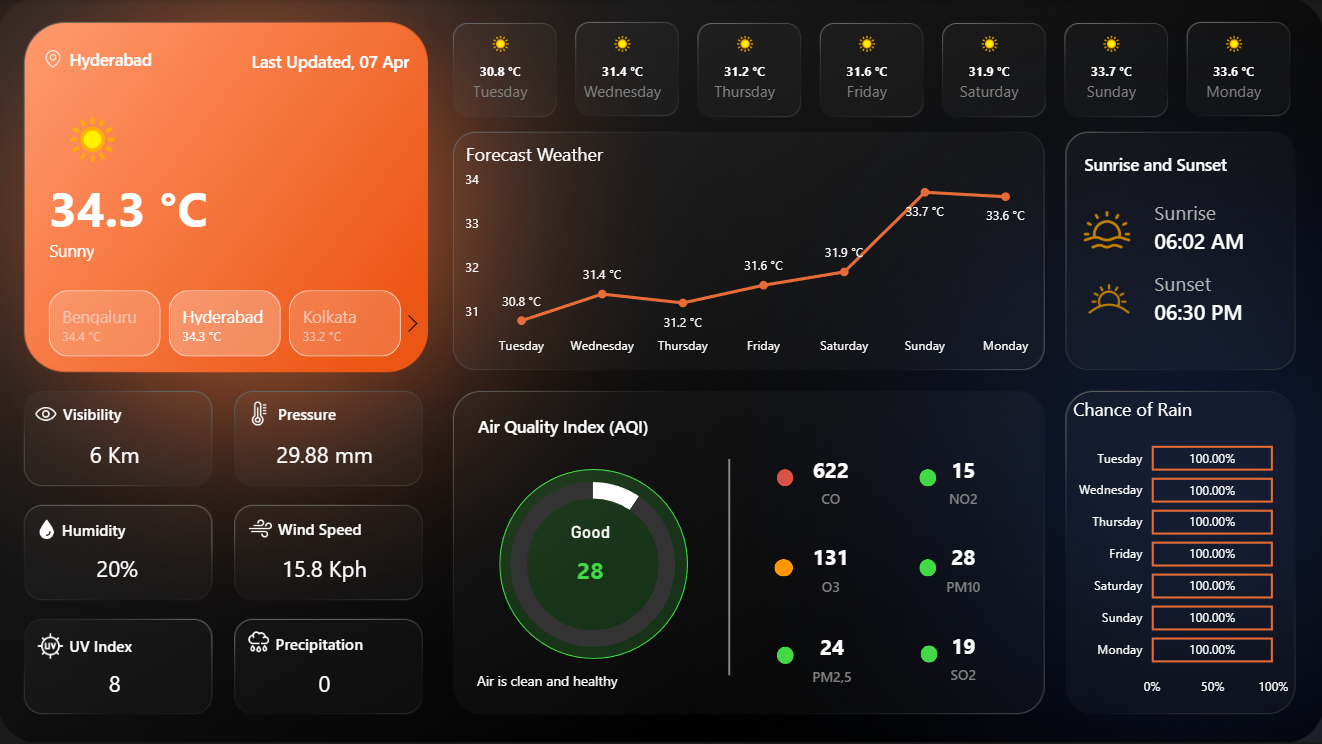

The page's visual inventory and layout, read from the dashboard file:
{"tool":"powerbi","page":{"name":"Page 1","canvas":[1280,720],"ordinal":0},"visuals":[{"type":"shape","box":[483.8,453.6,182.2,183.4],"z":0},{"type":"advancedSlicerVisual","fields":{"Values":["City.location.name"]},"box":[24.7,275.8,391.1,74.1],"z":1000},{"type":"shape","box":[49.4,159.2,188,83.7],"z":2000},{"type":"shape","box":[49.4,225,290.9,32.9],"z":3000},{"type":"shape","box":[68.6,41.2,271.7,32.9],"z":4000},{"type":"shape","box":[194.9,43.9,201.7,32.9],"z":5000},{"type":"image","box":[45.2,44.3,16.4,26.5],"z":6000},{"type":"cardVisual","fields":{"Data":["Min(Current.current.condition.icon)"]},"box":[0,0,182.5,192.1],"z":7000},{"type":"image","box":[32.9,389,27.4,23.7],"z":8000},{"type":"shape","box":[63,384,175.8,33.3],"z":9000},{"type":"shape","box":[270.3,384,175.8,33.3],"z":10000},{"type":"shape","box":[61.6,495.9,175.8,32.9],"z":11000},{"type":"shape","box":[270.3,494.5,175.8,32.9],"z":12000},{"type":"shape","box":[68.5,608.2,175.8,32.9],"z":13000},{"type":"shape","box":[267.6,605.9,175.8,32.9],"z":14000},{"type":"image","box":[237.9,389,28.8,23.3],"z":15000},{"type":"image","box":[35.6,502.3,21.9,20.1],"z":16000},{"type":"image","box":[37,610.5,26,28.3],"z":17000},{"type":"image","box":[238.8,499.1,28.8,23.3],"z":18000},{"type":"image","box":[235.2,608.2,32.4,25.1],"z":19000},{"type":"card","fields":{"Values":["Sum(Current.Humidity)"]},"box":[24.1,522.4,182.2,57.9],"z":20000},{"type":"card","fields":{"Values":["_Measures.visibilty"]},"box":[21.7,412.6,182.2,57.9],"z":21000},{"type":"card","fields":{"Values":["Min(Current.current_pressure_mm1)"]},"box":[232.4,412.5,165,57.8],"z":22000},{"type":"card","fields":{"Values":["_Measures.Wind_speed"]},"box":[232.4,522.6,165,57.8],"z":23000},{"type":"card","fields":{"Values":["Sum(Current.current.uv)"]},"box":[21.7,633.4,182.2,57.9],"z":24000},{"type":"card","fields":{"Values":["Sum(Current.current.precip_in)"]},"box":[232.4,634,165,57.8],"z":25000},{"type":"advancedSlicerVisual","fields":{"Values":["Forcast_Day.Day Name"]},"box":[424.7,22.9,832.4,94.1],"z":26000},{"type":"lineChart","title":"Forecast Weather","fields":{"Y":["Sum(Forcast_Day.forecast.forecastday.day.avgtemp_c)"],"Category":["Forcast_Day.Day Name"]},"box":[446.9,137.5,562.4,215.9],"z":27000},{"type":"shape","box":[1048.4,142.4,176.1,32.6],"z":28000},{"type":"shape","box":[1116,207.5,141.2,50.7],"z":29000},{"type":"shape","box":[1116,276.3,141.2,50.7],"z":30000},{"type":"shape","box":[1116,193,141.2,24.1],"z":31000},{"type":"shape","box":[1116,258.2,141.2,31.4],"z":32000},{"type":"image","box":[1040,200.3,60.3,44.6],"z":33000},{"type":"image","box":[1029.1,263,86.9,53.1],"z":34000},{"type":"hundredPercentStackedBarChart","title":"Chance of Rain","fields":{"Y":["Sum(Forcast_Day.forecast.forecastday.day.daily_chance_of_rain)","_Measures.left_value_rain"],"Category":["Forcast_Day.Day Name"]},"box":[1032.2,383.8,217.9,298.8],"z":35000},{"type":"shape","box":[463.3,394.8,176.8,34.3],"z":36000},{"type":"card","fields":{"Values":["Sum(Current.current.air_quality.no2)"]},"box":[887.9,426.3,87.7,78.1],"z":37000},{"type":"card","fields":{"Values":["Sum(Current.current.air_quality.o3)"]},"box":[760.4,509.9,87.7,78.1],"z":38000},{"type":"card","fields":{"Values":["Sum(Current.current.air_quality.pm10)"]},"box":[887.9,509.9,87.7,78.1],"z":39000},{"type":"card","fields":{"Values":["Sum(Current.current.air_quality.co)"]},"box":[760.4,426.3,87.7,78.1],"z":40000},{"type":"card","fields":{"Values":["Sum(Current.current.air_quality.pm2_5)"]},"box":[760.8,597.6,87.7,78.1],"z":41000},{"type":"card","fields":{"Values":["Sum(Current.current.air_quality.so2)"]},"box":[888.2,596.3,87.7,78.1],"z":42000},{"type":"shape","box":[751.6,453.6,16,16.9],"z":43000},{"type":"shape","box":[888.6,453.4,16.5,17],"z":44000},{"type":"shape","box":[749.4,540.3,18.2,17],"z":45000},{"type":"shape","box":[889.2,540.3,16.5,17],"z":46000},{"type":"shape","box":[751.1,624.4,16.5,17],"z":47000},{"type":"shape","box":[890.3,623.9,16.5,17],"z":48000},{"type":"shape","box":[682.8,444,45.8,208.7],"z":49000},{"type":"card","fields":{"Values":["Sum(Current.current.air_quality.pm10)"]},"box":[504.3,504.3,135.1,78.4],"z":50000},{"type":"donutChart","fields":{"Y":["Sum(Current.current.air_quality.pm10)","_Measures.left_value_pm10"]},"box":[444,441.6,260.6,208.7],"z":51000},{"type":"shape","box":[462.1,640.6,242.5,33.8],"z":51001}]}

Visuals, with their boxes in screenshot pixels (x1, y1, x2, y2), scaled from the page's 1280x720 canvas onto the 1322x744 screenshot:
shape: <box>500,469,688,658</box>
advancedSlicerVisual - City.location.name: <box>26,285,429,362</box>
shape: <box>51,165,245,251</box>
shape: <box>51,233,351,266</box>
shape: <box>71,43,351,77</box>
shape: <box>201,45,410,79</box>
image: <box>47,46,64,73</box>
cardVisual - Min(Current.current.condition.icon): <box>0,0,188,199</box>
image: <box>34,402,62,426</box>
shape: <box>65,397,247,431</box>
shape: <box>279,397,461,431</box>
shape: <box>64,512,245,546</box>
shape: <box>279,511,461,545</box>
shape: <box>71,628,252,662</box>
shape: <box>276,626,458,660</box>
image: <box>246,402,275,426</box>
image: <box>37,519,59,540</box>
image: <box>38,631,65,660</box>
image: <box>247,516,276,540</box>
image: <box>243,628,276,654</box>
card - Sum(Current.Humidity): <box>25,540,213,600</box>
card - _Measures.visibilty: <box>22,426,211,486</box>
card - Min(Current.current_pressure_mm1): <box>240,426,410,486</box>
card - _Measures.Wind_speed: <box>240,540,410,600</box>
card - Sum(Current.current.uv): <box>22,655,211,714</box>
card - Sum(Current.current.precip_in): <box>240,655,410,715</box>
advancedSlicerVisual - Forcast_Day.Day Name: <box>439,24,1298,121</box>
"Forecast Weather" lineChart: <box>462,142,1042,365</box>
shape: <box>1083,147,1265,181</box>
shape: <box>1153,214,1298,267</box>
shape: <box>1153,286,1298,338</box>
shape: <box>1153,199,1298,224</box>
shape: <box>1153,267,1298,299</box>
image: <box>1074,207,1136,253</box>
image: <box>1063,272,1153,327</box>
"Chance of Rain" hundredPercentStackedBarChart: <box>1066,397,1291,705</box>
shape: <box>479,408,661,443</box>
card - Sum(Current.current.air_quality.no2): <box>917,441,1008,521</box>
card - Sum(Current.current.air_quality.o3): <box>785,527,876,608</box>
card - Sum(Current.current.air_quality.pm10): <box>917,527,1008,608</box>
card - Sum(Current.current.air_quality.co): <box>785,441,876,521</box>
card - Sum(Current.current.air_quality.pm2_5): <box>786,618,876,698</box>
card - Sum(Current.current.air_quality.so2): <box>917,616,1008,697</box>
shape: <box>776,469,793,486</box>
shape: <box>918,469,935,486</box>
shape: <box>774,558,793,576</box>
shape: <box>918,558,935,576</box>
shape: <box>776,645,793,663</box>
shape: <box>920,645,937,662</box>
shape: <box>705,459,753,674</box>
card - Sum(Current.current.air_quality.pm10): <box>521,521,660,602</box>
donutChart - Sum(Current.current.air_quality.pm10) x _Measures.left_value_pm10: <box>459,456,728,672</box>
shape: <box>477,662,728,697</box>
